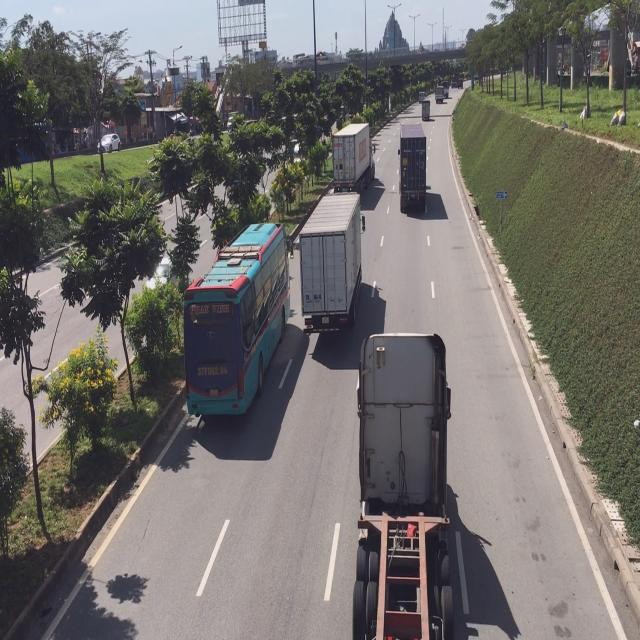bus: (184, 223, 288, 427)
truck: (350, 327, 454, 640), (302, 193, 366, 343), (334, 122, 374, 194), (400, 124, 427, 217)
